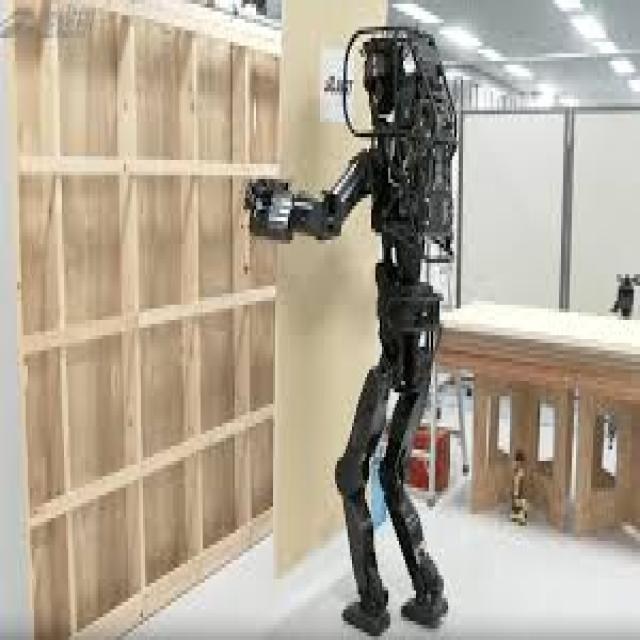humanoid-arm: (248, 176, 331, 246)
humanoid-leg: (335, 457, 384, 633), (391, 487, 443, 624)
